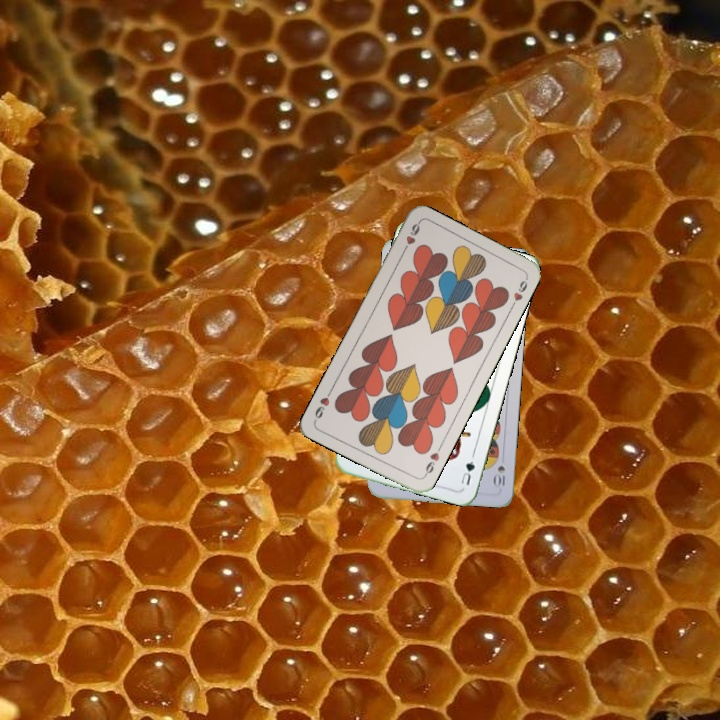GU: (457, 457, 477, 488)
H9: (420, 442, 444, 480), (398, 219, 422, 256)
S10: (490, 462, 508, 490)
